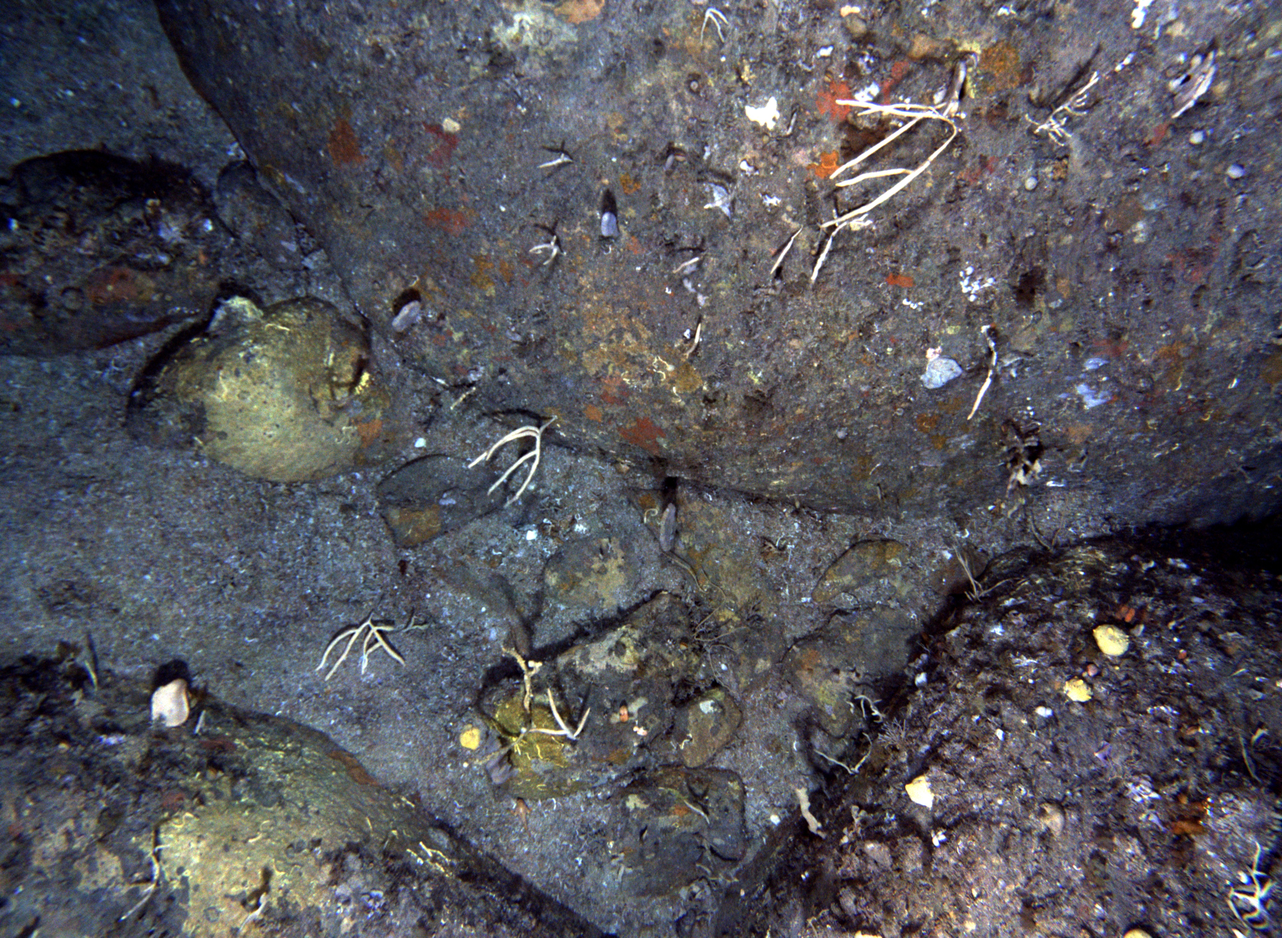Brachionichthyidae: (508, 796, 535, 839)
